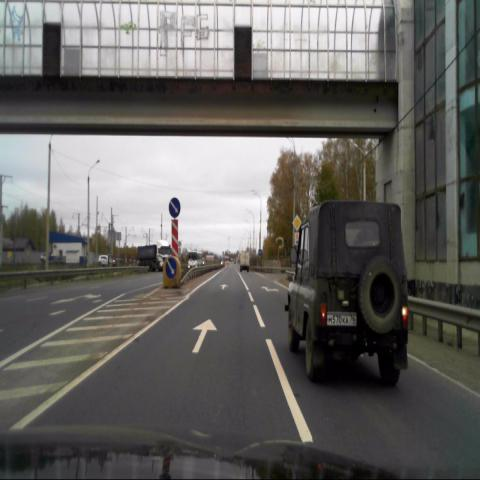4_2_1: (165, 257, 176, 279)
